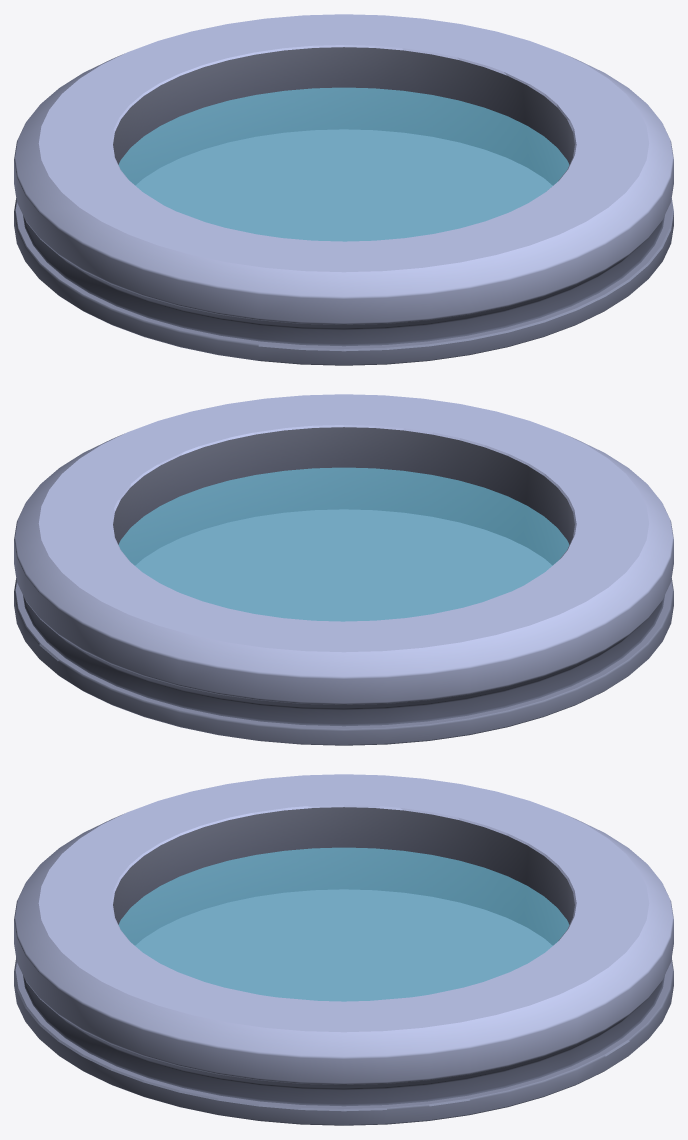
The model's file is kenney-fantasy-town__fountain-round.glb.
3 views of the same model, one above another, from view 1: azimuth 30°, elevation 25°; view 2: azimuth 150°, elevation 25°; view 3: azimuth 270°, elevation 25° (orthographic).
Parts seen in each view (by area): view 1: fountain-round, (%ignore); view 2: fountain-round, (%ignore); view 3: fountain-round, (%ignore).
Part boxes in pixels (x1,y1,x2,y2): fountain-round: [14, 14, 673, 365]; (%ignore): [119, 87, 568, 241]; fountain-round: [14, 394, 673, 745]; (%ignore): [119, 467, 568, 621]; fountain-round: [14, 774, 673, 1125]; (%ignore): [119, 847, 568, 1001].
Size of the model in its own units: 2 by 0.28 by 2.
2 materials, 1 textured.
